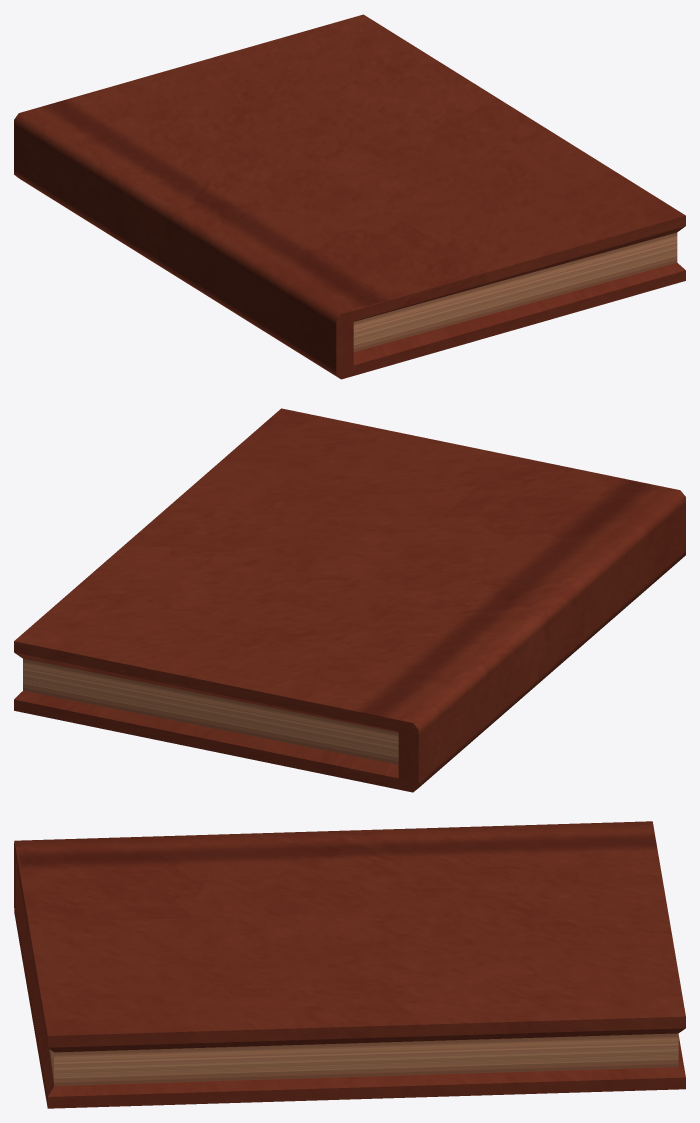
Rendered from singularBook.fbx.
The picture shows the model from 3 angles, top to bottom: view 1: azimuth 30°, elevation 25°; view 2: azimuth 150°, elevation 25°; view 3: azimuth 270°, elevation 25°; orthographic projection. The views are drawn at different scales.
Visible parts, largest first — view 1: Singular_Book; view 2: Singular_Book; view 3: Singular_Book.
Boxes of the visible parts, bbox=[...] form: Singular_Book: bbox=[14, 14, 685, 379]; Singular_Book: bbox=[14, 408, 685, 792]; Singular_Book: bbox=[14, 821, 685, 1108].
Bounding box in the file's own units: 25.69 × 4 × 33.55.
